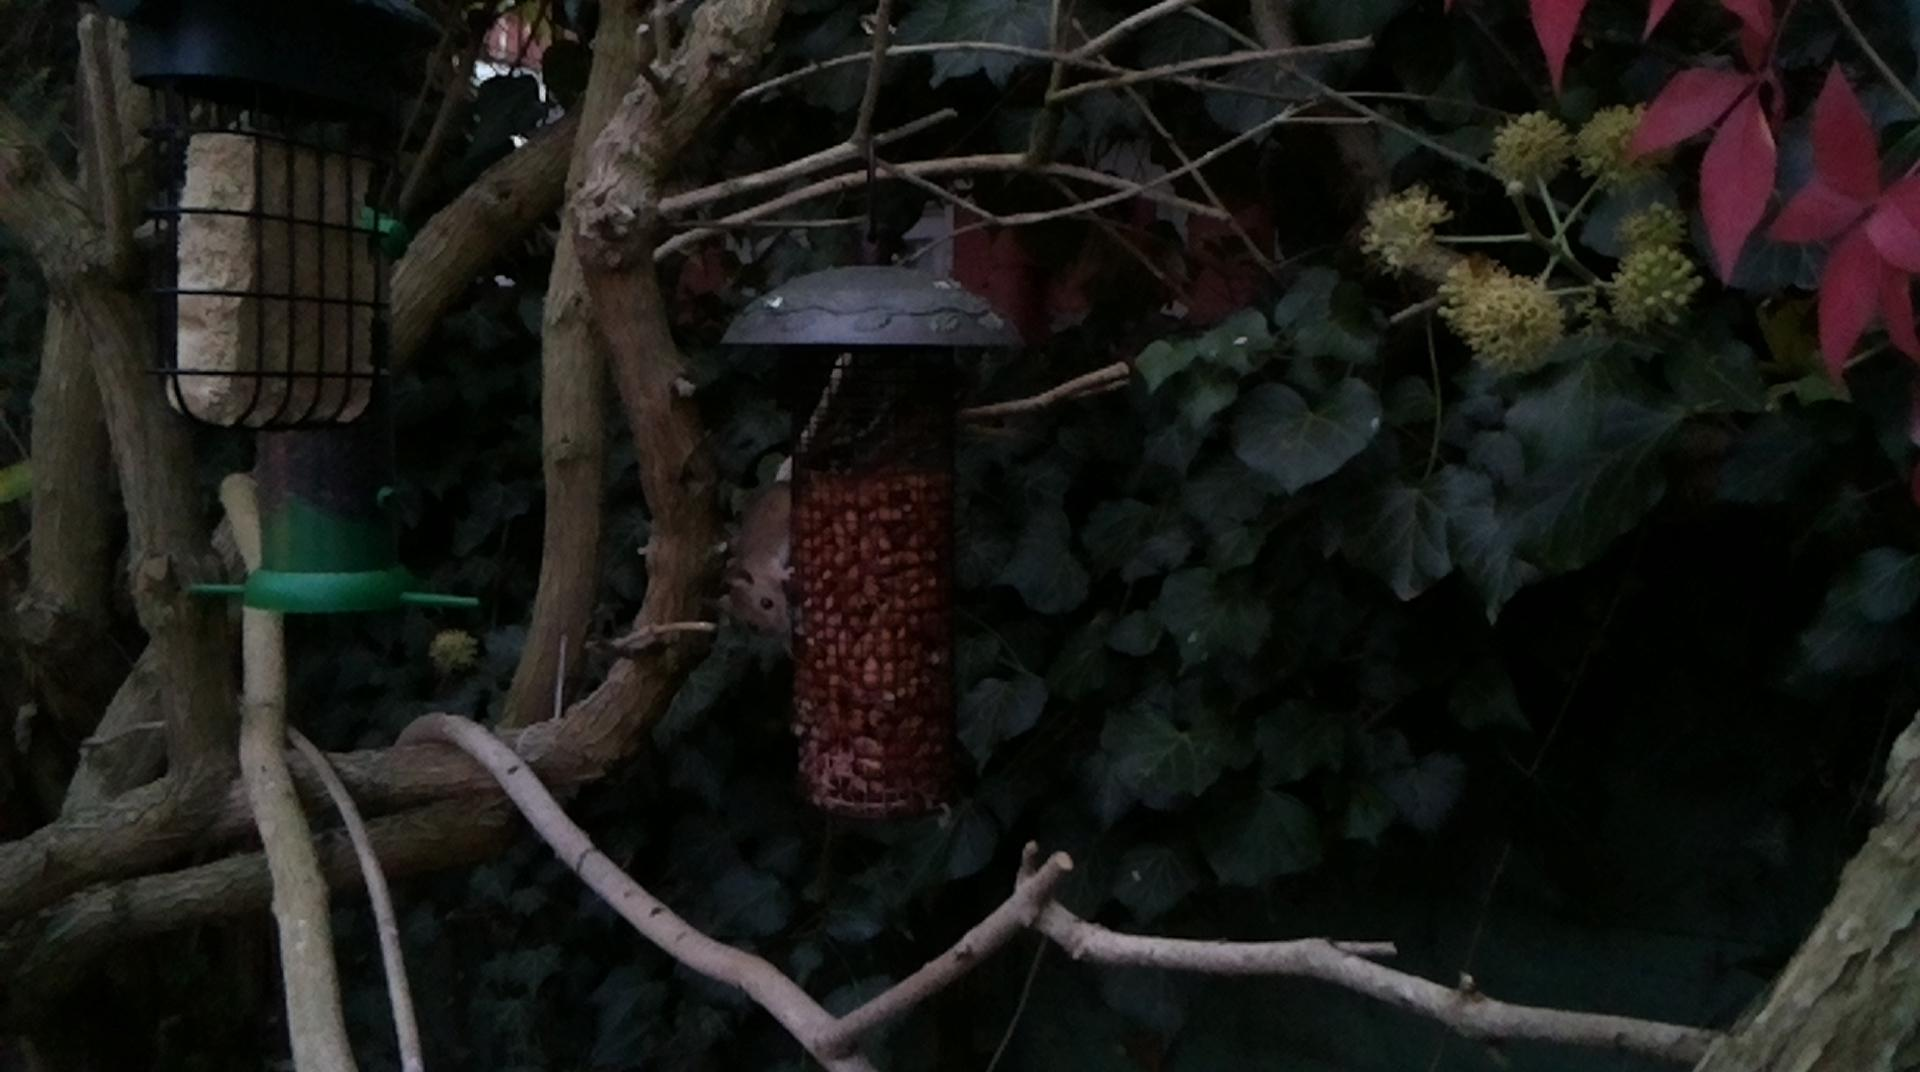mouse: (717, 485, 795, 636)
